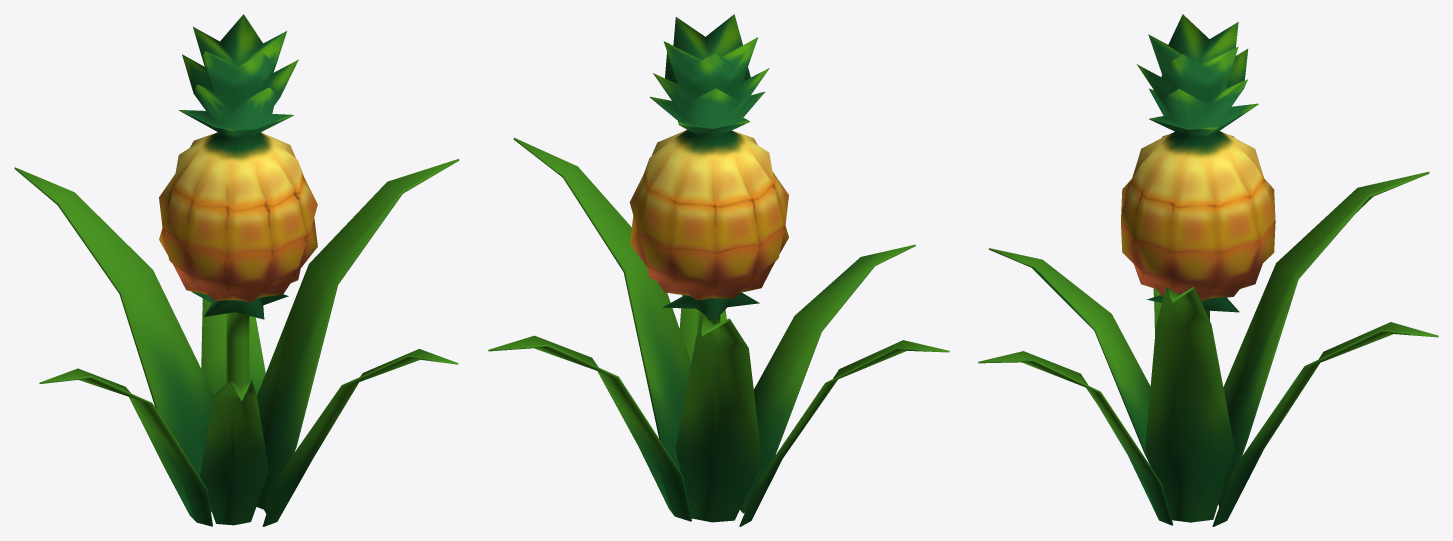
The model's file is PineappleTree.fbx.
3 views of the same model, side by side, from view 1: azimuth 30°, elevation 25°; view 2: azimuth 150°, elevation 25°; view 3: azimuth 270°, elevation 25° (orthographic).
Parts seen in each view (by area): view 1: PineapplePlant; view 2: PineapplePlant; view 3: PineapplePlant.
Boxes of the visible parts, left/top/right/bottom form: PineapplePlant: left=14, top=14, right=459, bottom=526; PineapplePlant: left=488, top=14, right=949, bottom=526; PineapplePlant: left=978, top=14, right=1438, bottom=526.
Bounding box in the file's own units: 186 × 198 × 174.
Materials: 1 (1 with a texture image).
